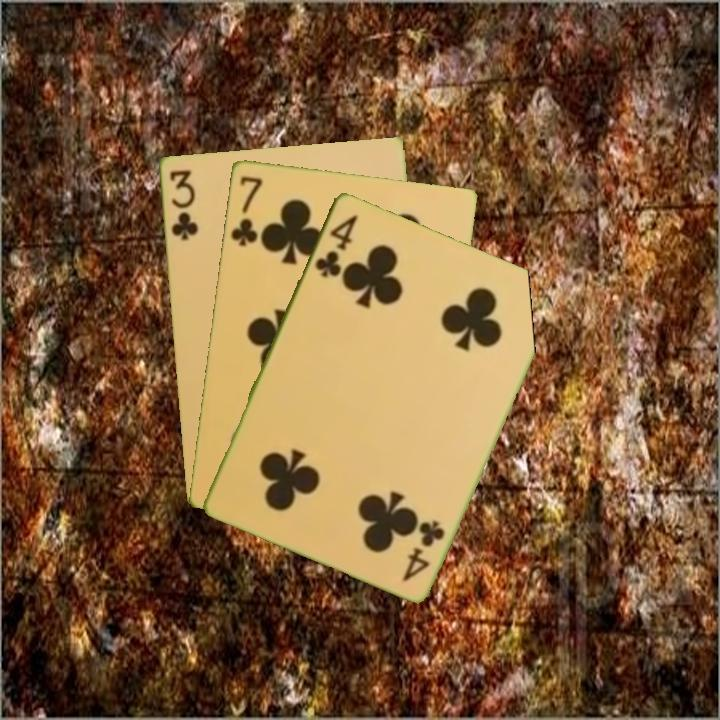3c: (166, 166, 200, 243)
4c: (311, 211, 361, 280), (398, 516, 447, 584)
7c: (227, 172, 265, 249)
